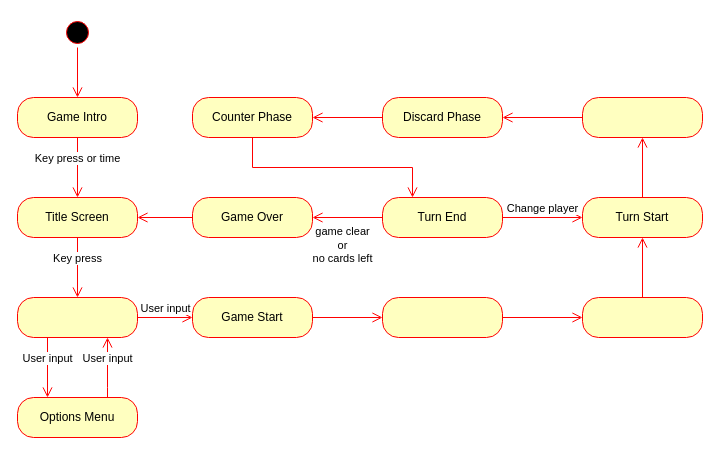
Image size: 720x455. Some labels were removed from this diagram. Each missing label, with the box of its shape:
Deal Cards: (382, 296, 502, 338)
Draw Phase: (582, 96, 702, 138)
Main Menu: (16, 296, 138, 338)
Player Select (Coin Toss): (582, 296, 702, 338)
